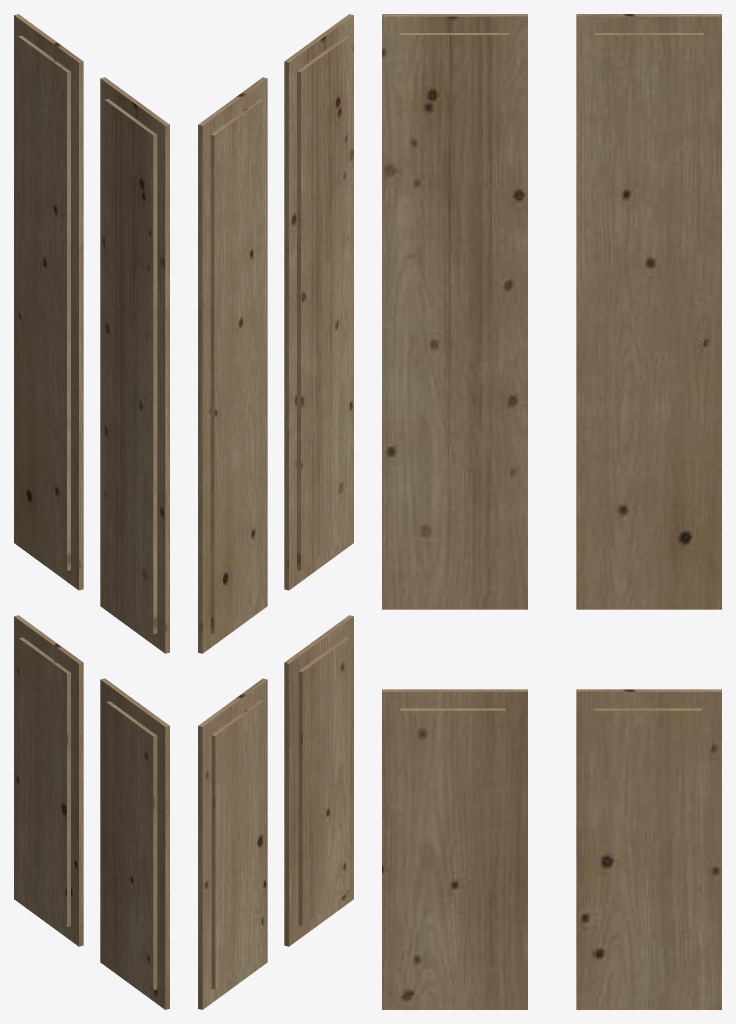
File: Joglo_part_188.fbx
3 views of the same model, side by side, from view 1: azimuth 30°, elevation 25°; view 2: azimuth 150°, elevation 25°; view 3: azimuth 270°, elevation 25° (orthographic). The views are drawn at different scales.
Parts seen in each view (by area): view 1: Mesh265_Wood___Pine_Grained_Horizontal_0.001; view 2: Mesh265_Wood___Pine_Grained_Horizontal_0.001; view 3: Mesh265_Wood___Pine_Grained_Horizontal_0.001.
Boxes of the visible parts, x1,y1,x2,y2 form: Mesh265_Wood___Pine_Grained_Horizontal_0.001: (14, 14, 169, 1009); Mesh265_Wood___Pine_Grained_Horizontal_0.001: (198, 14, 353, 1009); Mesh265_Wood___Pine_Grained_Horizontal_0.001: (382, 14, 721, 1009).
Size of the model in its own units: 1.03 by 71.34 by 22.13.
